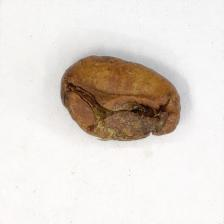NG: (63, 73, 176, 142)
